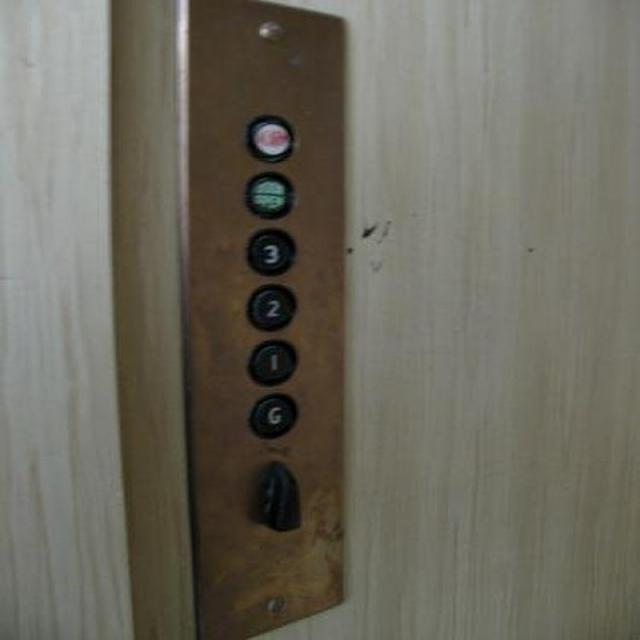1: (245, 335, 298, 386)
2: (245, 280, 298, 331)
3: (244, 226, 295, 275)
G: (247, 390, 297, 439)
text_blur: (245, 110, 295, 162), (243, 167, 292, 219)
